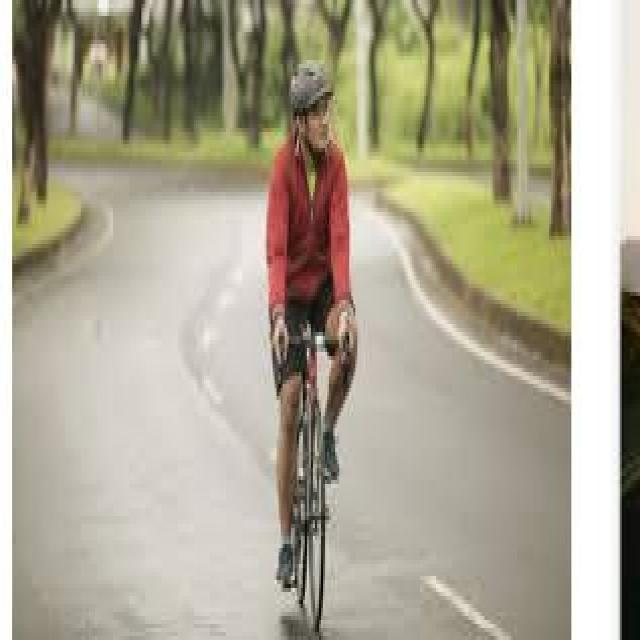bicycle: (272, 309, 355, 629)
